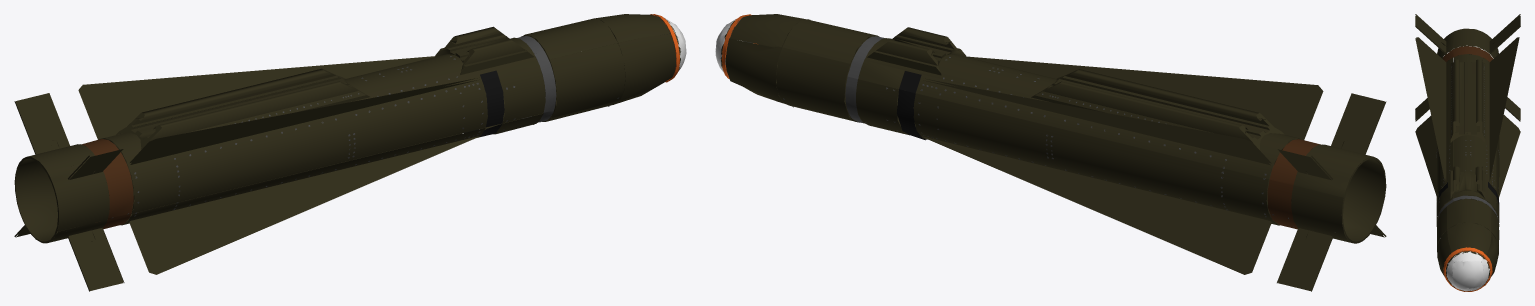
Rendered from agm_3.glb.
3 renders of one model, left to right at view 1: azimuth 30°, elevation 25°; view 2: azimuth 150°, elevation 25°; view 3: azimuth 270°, elevation 25°, orthographic. The views are drawn at different scales.
Visible parts, largest first — view 1: Cylinder_GREEN_0; view 2: Cylinder_GREEN_0; view 3: Cylinder_GREEN_0.
Part boxes in pixels (<box>): Cylinder_GREEN_0: <box>14,14,686,291</box>; Cylinder_GREEN_0: <box>715,14,1386,291</box>; Cylinder_GREEN_0: <box>1415,14,1520,291</box>.
Bounding box in the file's own units: 1 × 0.2026 × 0.2026.
